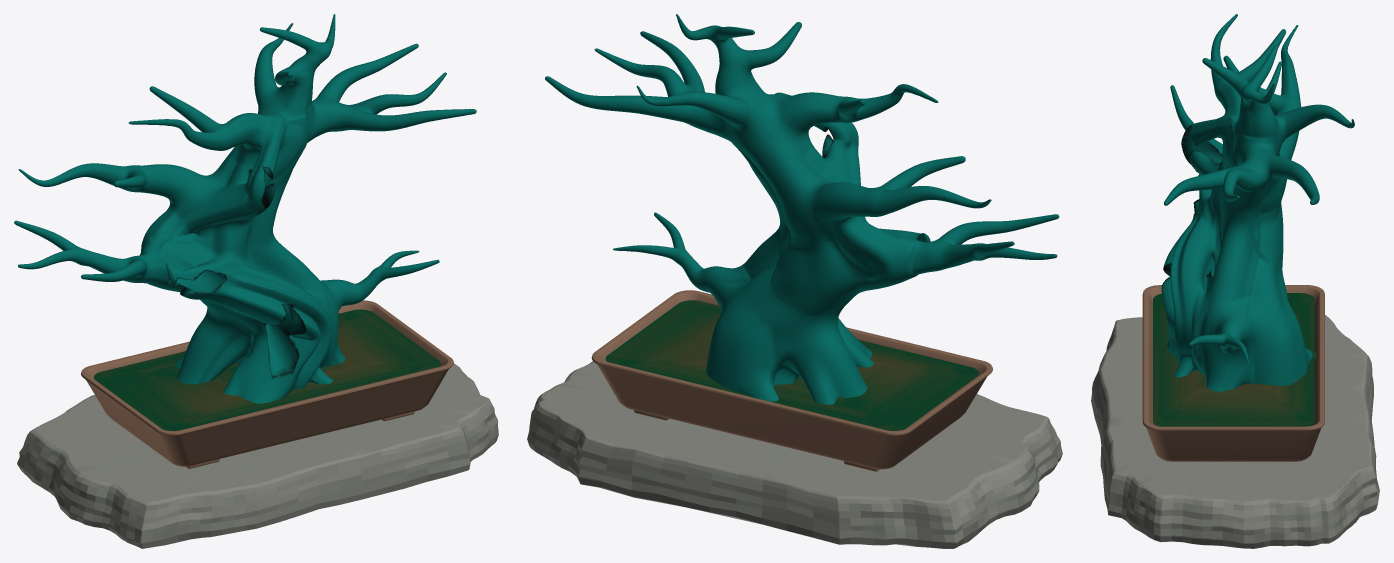
The model's file is local-a.glb.
3 renders of one model, left to right at view 1: azimuth 30°, elevation 25°; view 2: azimuth 150°, elevation 25°; view 3: azimuth 270°, elevation 25°, orthographic. The views are drawn at different scales.
Parts seen in each view (by area): view 1: Continuous aged trunk and primary branches, Low split natural bedding stone, Shallow unglazed pot, Continuous planted soil; view 2: Continuous aged trunk and primary branches, Low split natural bedding stone, Shallow unglazed pot, Continuous planted soil; view 3: Continuous aged trunk and primary branches, Low split natural bedding stone, Continuous planted soil, Shallow unglazed pot.
Part boxes in pixels (x1,y1,x2,y2): Continuous aged trunk and primary branches: [14, 14, 476, 403]; Low split natural bedding stone: [17, 363, 498, 548]; Shallow unglazed pot: [81, 300, 453, 466]; Continuous planted soil: [94, 309, 440, 430]; Continuous aged trunk and primary branches: [545, 14, 1059, 404]; Low split natural bedding stone: [527, 361, 1062, 548]; Shallow unglazed pot: [591, 290, 992, 469]; Continuous planted soil: [605, 300, 978, 430]; Continuous aged trunk and primary branches: [1161, 14, 1354, 391]; Low split natural bedding stone: [1091, 315, 1379, 548]; Continuous planted soil: [1153, 293, 1314, 426]; Shallow unglazed pot: [1142, 285, 1324, 461].
Bounding box in the file's own units: 2.48 × 2.15 × 1.36.
